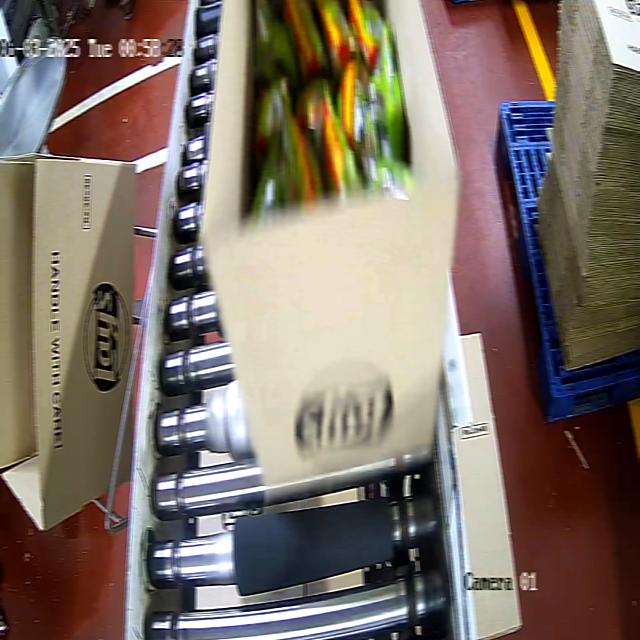YOGURT_HERB: (247, 10, 414, 210)
